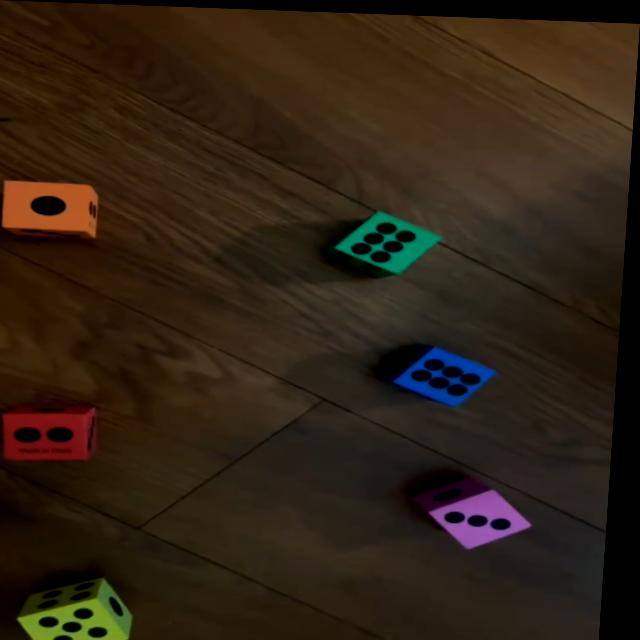blue_block: (382, 339, 501, 405)
red_block: (8, 400, 109, 463)
